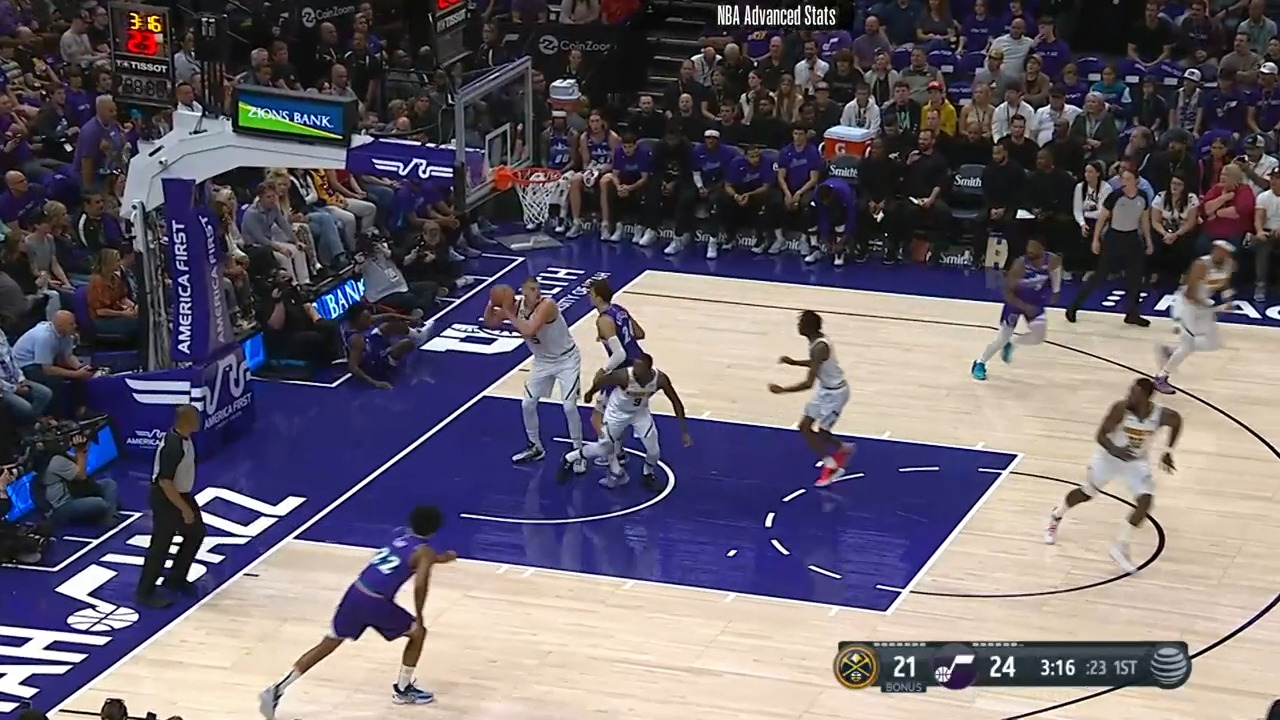net: (490, 161, 562, 227)
player: (277, 502, 462, 713), (1044, 374, 1187, 572), (498, 274, 593, 477), (769, 310, 856, 495), (574, 281, 644, 485), (596, 351, 693, 493), (973, 236, 1061, 386), (1151, 240, 1232, 397), (325, 292, 439, 392)
referee: (135, 400, 206, 608), (1075, 167, 1165, 330)
